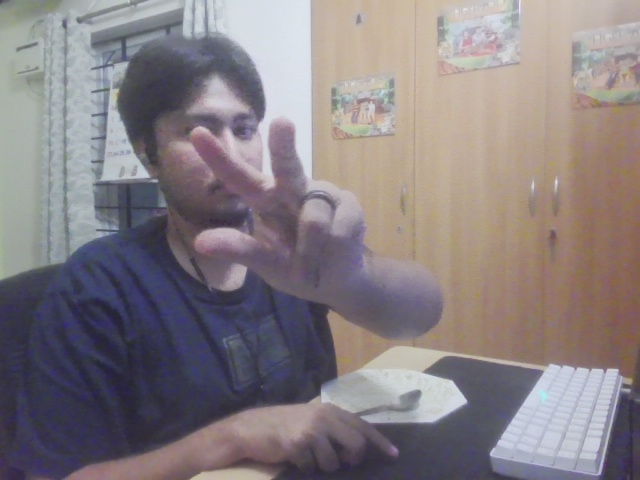no: (170, 109, 375, 306)
